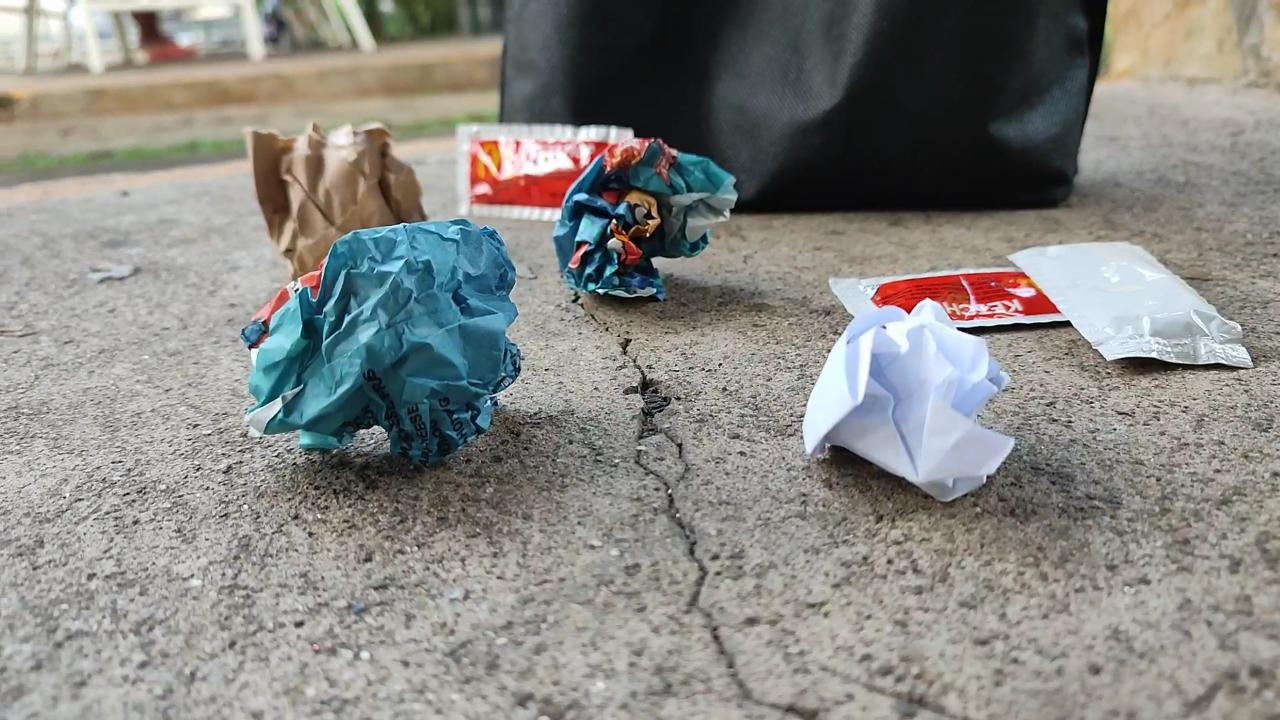Paper: (232, 210, 530, 483), (786, 320, 1029, 499), (545, 138, 737, 314), (231, 119, 436, 282)
